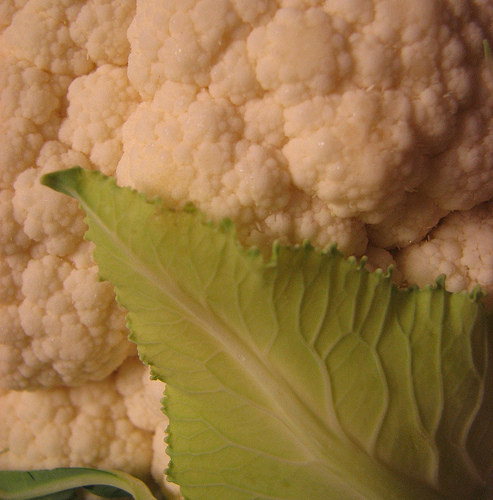cauliflower: (0, 0, 491, 498)
